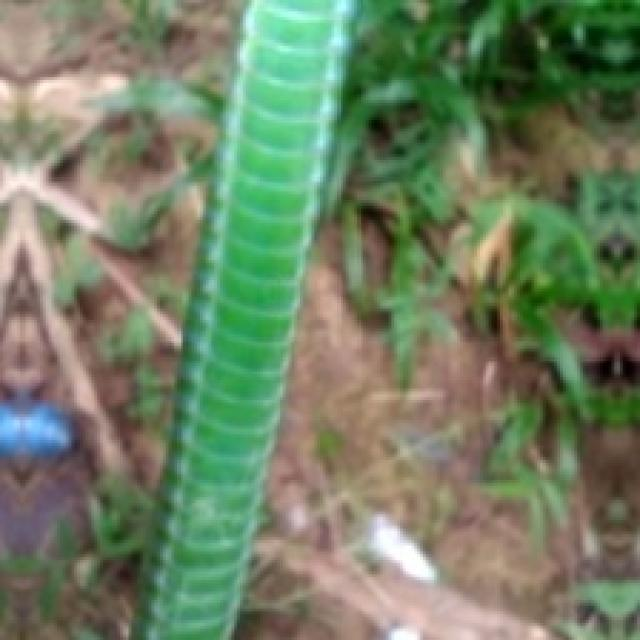red-tailed green ratsnake: (137, 0, 351, 637)
